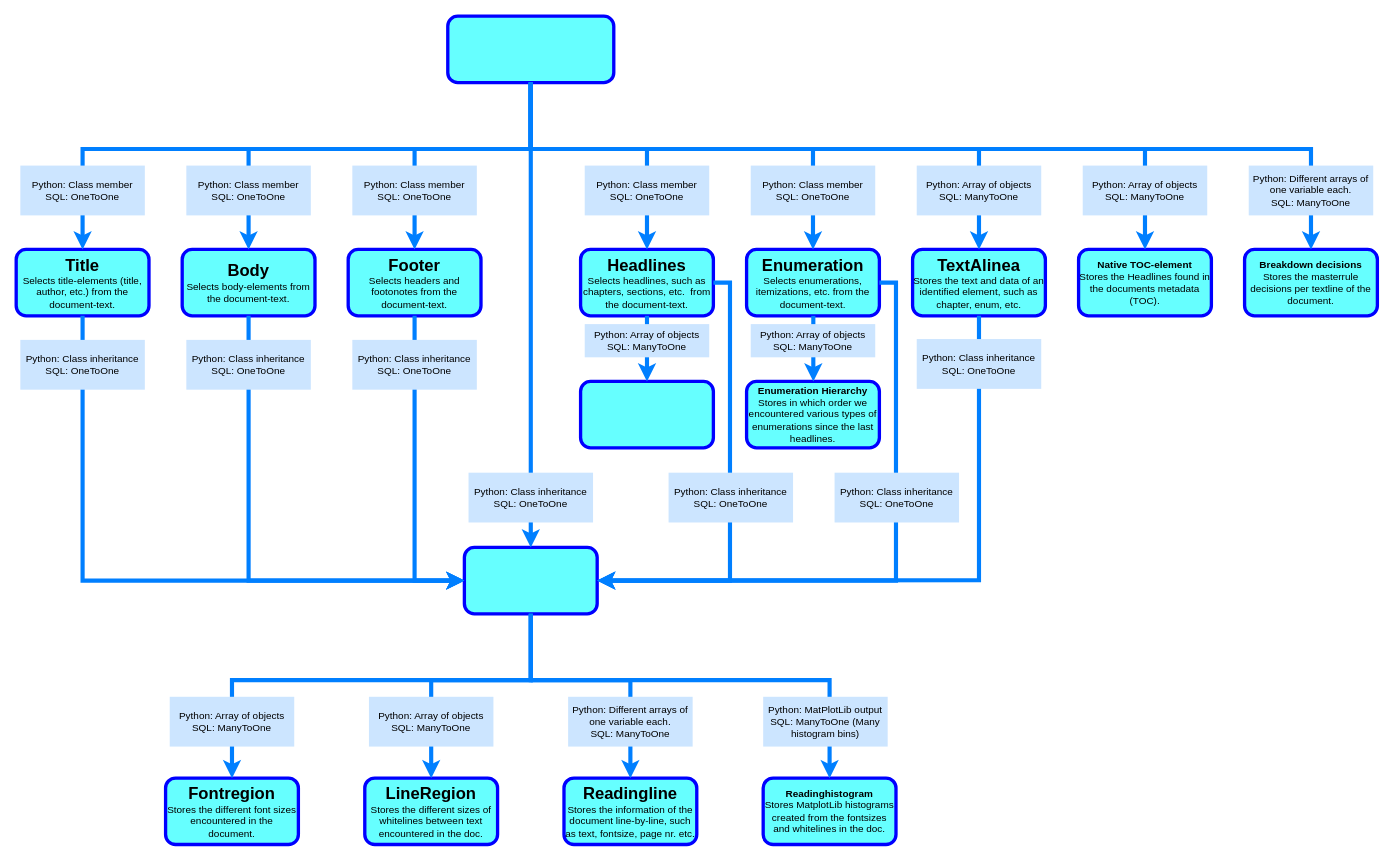
This 1393x860 diagram has some shape labels left out. Each missing label, with the centre of its shape:
"Headlines Hierarchy This class' copy of Enumeration-Hierarchy." belongs at point (647, 414).
"TextPart Covers basic functionality, like reading and calculation." belongs at point (530, 580).
"TextSplitter manages the full analysis of a single document." belongs at point (530, 49).
